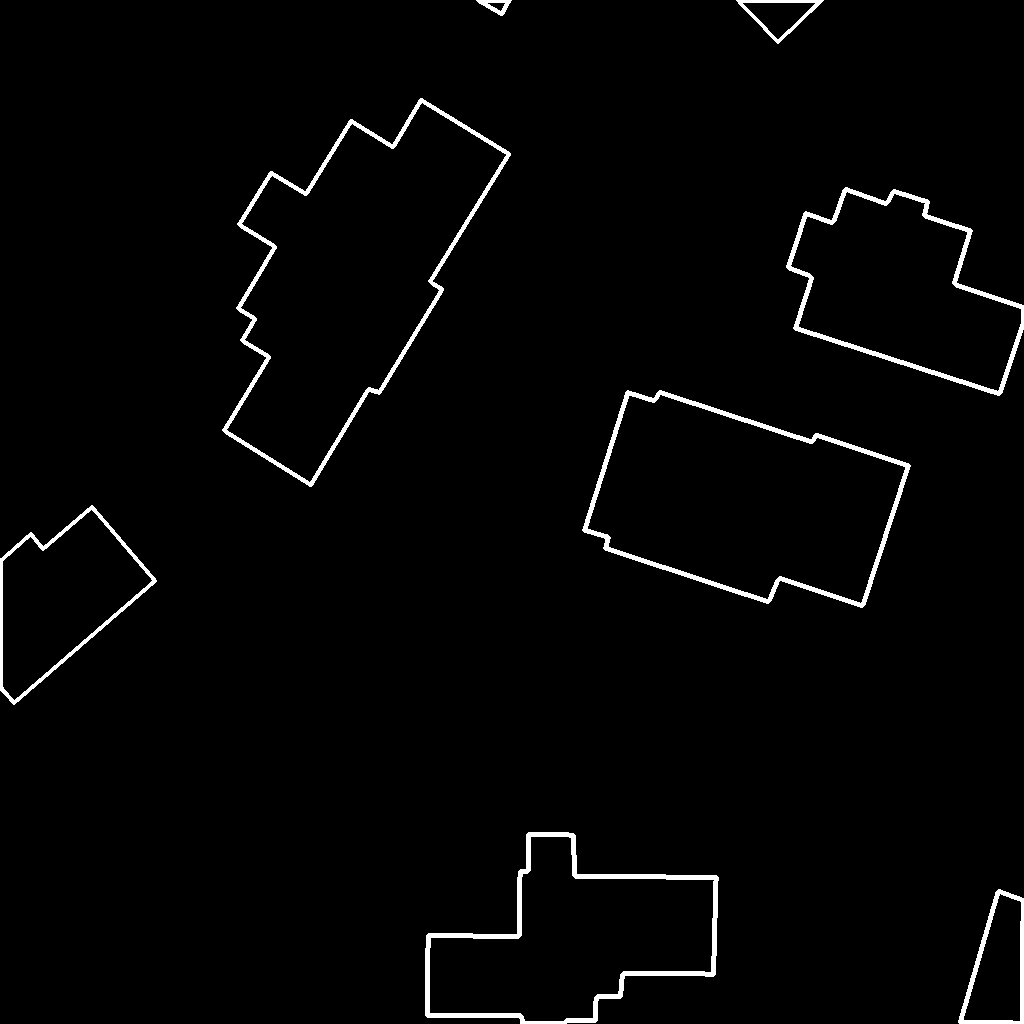building: (224, 100, 510, 486), (584, 392, 910, 607), (427, 834, 717, 1024), (788, 189, 1024, 395), (0, 507, 156, 704), (960, 891, 1024, 1024), (737, 0, 823, 43), (477, 0, 511, 15)
